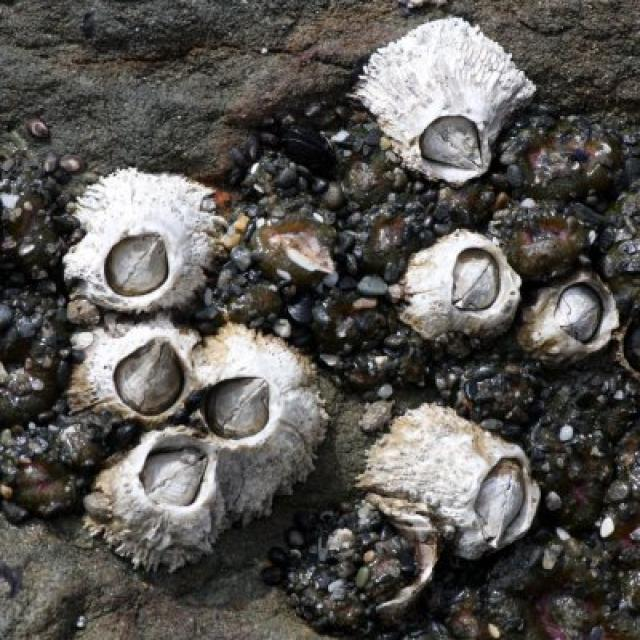barnacles: (346, 12, 525, 201), (371, 423, 548, 566), (192, 341, 323, 527), (51, 171, 216, 317), (84, 431, 223, 577), (402, 224, 524, 359), (63, 324, 198, 427), (526, 262, 618, 384)
